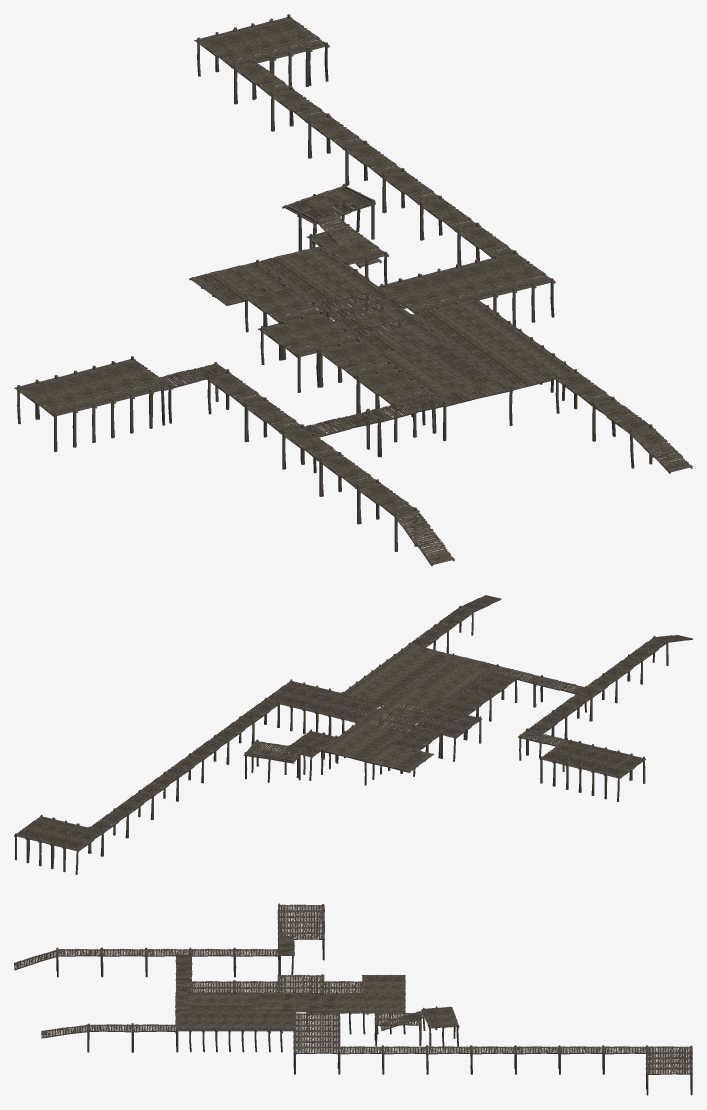
The model's file is dock.glb.
3 renders of one model, top to bottom at view 1: azimuth 30°, elevation 25°; view 2: azimuth 150°, elevation 25°; view 3: azimuth 270°, elevation 25°, orthographic. The views are drawn at different scales.
Parts seen in each view (by area): view 1: Dock_SM_Modules_Cube_867.031, Dock_SM_Modules_Cube_867.071, Dock_SM_Modules_Cube_867.041, Dock_SM_Modules_Cube_867.049, Dock_SM_Modules_Cube_867.037, Dock_SM_Modules_Cube_867.050, Dock_SM_Modules_Cube_867.045, Dock_SM_Modules_Cube_867.056, Dock_SM_Modules_Cube_867.007, Dock_SM_Modules_Cube_867.040, Dock_SM_Modules_Cube_867.002, Dock_SM_Modules_Cube_867.030 (+47 smaller); view 2: Dock_SM_Modules_Cube_867.056, Dock_SM_Modules_Cube_867.071, Dock_SM_Modules_Cube_867.041, Dock_SM_Modules_Cube_867.079, Dock_SM_Modules_Cube_867.054, Dock_SM_Modules_Cube_867.052, Dock_SM_Modules_Cube_867.040, Dock_SM_Modules_Cube_867.046, Dock_SM_Modules_Cube_867.074, Dock_SM_Modules_Cube_867.050, Dock_SM_Modules_Cube_867.049, Dock_SM_Modules_Cube_867.066 (+32 smaller); view 3: Dock_SM_Modules_Cube_867.054, Dock_SM_Modules_Cube_867.050, Dock_SM_Modules_Cube_867.037, Dock_SM_Modules_Cube_867.033, Dock_SM_Modules_Cube_867.051, Dock_SM_Modules_Cube_867.066, Dock_SM_Modules_Cube_867.065, Dock_SM_Modules_Cube_867.080, Dock_SM_Modules_Cube_867.032, Dock_SM_Modules_Cube_867.030, Dock_SM_Modules_Cube_867.074, Dock_SM_Modules_Cube_867.023 (+46 smaller).
Part boxes in pixels (<box>): Dock_SM_Modules_Cube_867.031: <box>393,509,454,566</box>; Dock_SM_Modules_Cube_867.071: <box>258,320,320,392</box>; Dock_SM_Modules_Cube_867.041: <box>297,192,375,250</box>; Dock_SM_Modules_Cube_867.049: <box>300,409,381,473</box>; Dock_SM_Modules_Cube_867.037: <box>555,369,616,441</box>; Dock_SM_Modules_Cube_867.050: <box>355,479,418,551</box>; Dock_SM_Modules_Cube_867.045: <box>366,394,446,457</box>; Dock_SM_Modules_Cube_867.056: <box>14,379,77,451</box>; Dock_SM_Modules_Cube_867.007: <box>242,397,304,469</box>; Dock_SM_Modules_Cube_867.040: <box>206,369,267,442</box>; Dock_SM_Modules_Cube_867.002: <box>629,428,692,473</box>; Dock_SM_Modules_Cube_867.030: <box>417,195,479,266</box>; Dock_SM_Modules_Cube_867.056: <box>604,754,645,801</box>; Dock_SM_Modules_Cube_867.071: <box>440,713,482,761</box>; Dock_SM_Modules_Cube_867.041: <box>251,739,306,780</box>; Dock_SM_Modules_Cube_867.079: <box>62,829,104,874</box>; Dock_SM_Modules_Cube_867.054: <box>433,605,475,653</box>; Dock_SM_Modules_Cube_867.052: <box>577,673,618,721</box>; Dock_SM_Modules_Cube_867.040: <box>527,711,567,758</box>; Dock_SM_Modules_Cube_867.046: <box>518,728,571,771</box>; Dock_SM_Modules_Cube_867.074: <box>163,753,204,801</box>; Dock_SM_Modules_Cube_867.050: <box>627,635,669,683</box>; Dock_SM_Modules_Cube_867.049: <box>532,675,586,717</box>; Dock_SM_Modules_Cube_867.066: <box>113,790,154,838</box>; Dock_SM_Modules_Cube_867.054: <box>87,1023,133,1052</box>; Dock_SM_Modules_Cube_867.050: <box>56,947,102,977</box>; Dock_SM_Modules_Cube_867.037: <box>131,1023,178,1052</box>; Dock_SM_Modules_Cube_867.033: <box>337,1045,384,1074</box>; Dock_SM_Modules_Cube_867.051: <box>100,947,147,977</box>; Dock_SM_Modules_Cube_867.066: <box>558,1045,604,1074</box>; Dock_SM_Modules_Cube_867.065: <box>514,1045,561,1074</box>; Dock_SM_Modules_Cube_867.080: <box>645,1066,692,1095</box>; Dock_SM_Modules_Cube_867.032: <box>426,1045,472,1074</box>; Dock_SM_Modules_Cube_867.030: <box>381,1045,428,1074</box>; Dock_SM_Modules_Cube_867.074: <box>470,1045,517,1074</box>; Dock_SM_Modules_Cube_867.023: <box>293,1045,340,1074</box>.
Size of the model in its own units: 68.25 by 5.5 by 116.
2 materials, 2 textured.
